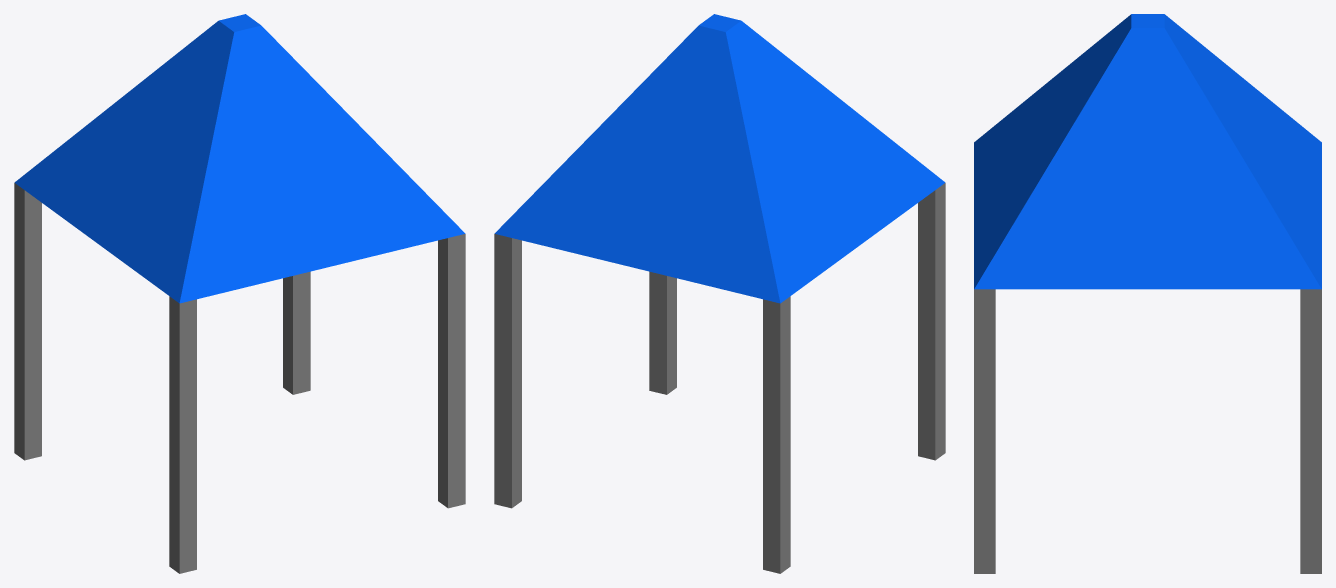
Rendered from tent 2.obj.
3 views of the same model, side by side, from view 1: azimuth 30°, elevation 25°; view 2: azimuth 150°, elevation 25°; view 3: azimuth 270°, elevation 25° (orthographic). The views are drawn at different scales.
Visible parts, largest first — view 1: Cube_Cube.001; view 2: Cube_Cube.001; view 3: Cube_Cube.001.
Boxes of the visible parts, left/top/right/bottom form: Cube_Cube.001: left=14, top=14, right=465, bottom=573; Cube_Cube.001: left=494, top=14, right=945, bottom=573; Cube_Cube.001: left=974, top=14, right=1321, bottom=573.
Bounding box in the file's own units: 6.33 × 9.63 × 6.33.
Materials: 1 (1 with a texture image).
